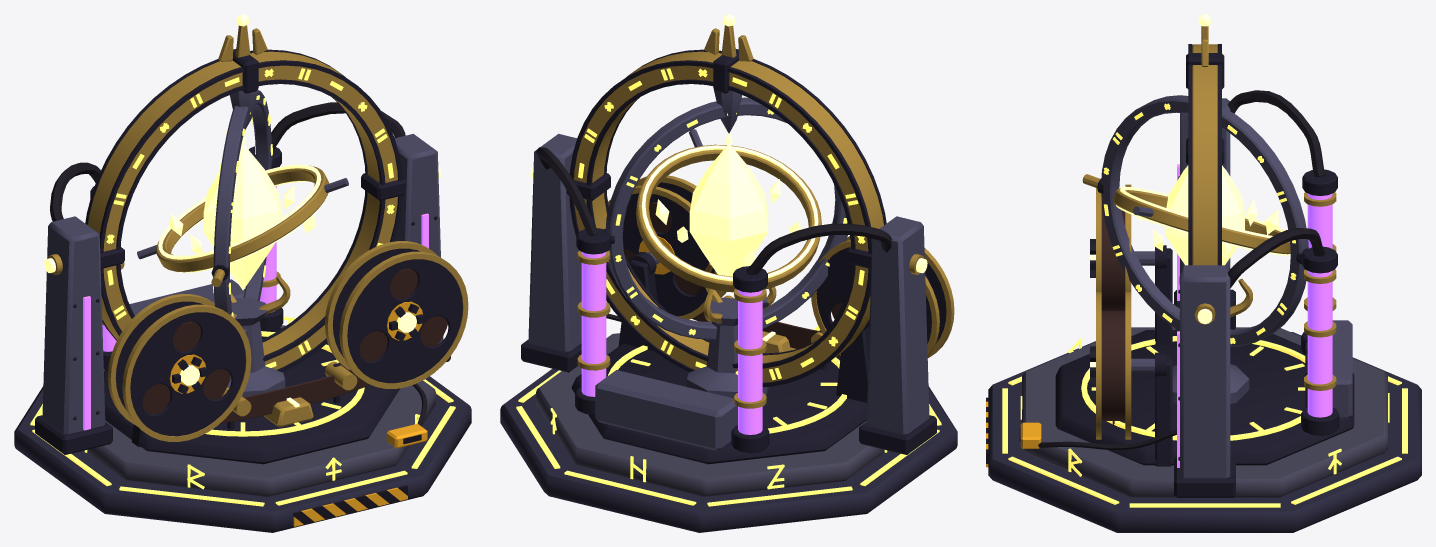
File: time_machine.glb
The picture shows the model from 3 angles, left to right: view 1: azimuth 30°, elevation 25°; view 2: azimuth 150°, elevation 25°; view 3: azimuth 270°, elevation 25°; orthographic projection.
Parts seen in each view (by area): view 1: Body, Ring_Outer, Reel_R, Reel_L, Heart, Ring_Inner, Ring_Mid; view 2: Body, Ring_Outer, Ring_Mid, Heart, Ring_Inner, Reel_R, Reel_L; view 3: Body, Ring_Mid, Ring_Outer, Reel_R, Ring_Inner, Heart, Reel_L.
Part boxes in pixels (box(x1,y1,x2,y2)): Body: box(14, 102, 471, 532); Ring_Outer: box(85, 14, 405, 372); Reel_R: box(325, 241, 468, 388); Reel_L: box(108, 294, 251, 441); Heart: box(169, 143, 316, 290); Ring_Inner: box(137, 164, 348, 272); Ring_Mid: box(211, 90, 274, 336); Body: box(500, 133, 957, 532); Ring_Outer: box(566, 14, 886, 387); Ring_Mid: box(604, 97, 847, 339); Heart: box(655, 143, 800, 276); Ring_Inner: box(636, 129, 821, 307); Reel_R: box(608, 175, 726, 319); Reel_L: box(811, 236, 954, 358); Body: box(986, 90, 1421, 532); Ring_Mid: box(1082, 95, 1309, 347); Ring_Outer: box(1186, 14, 1224, 265); Reel_R: box(1090, 292, 1131, 439); Ring_Inner: box(1113, 186, 1290, 255); Heart: box(1137, 165, 1279, 265); Reel_L: box(1090, 184, 1131, 310).
Bounding box in the file's own units: 3.09 × 3.21 × 2.96.
